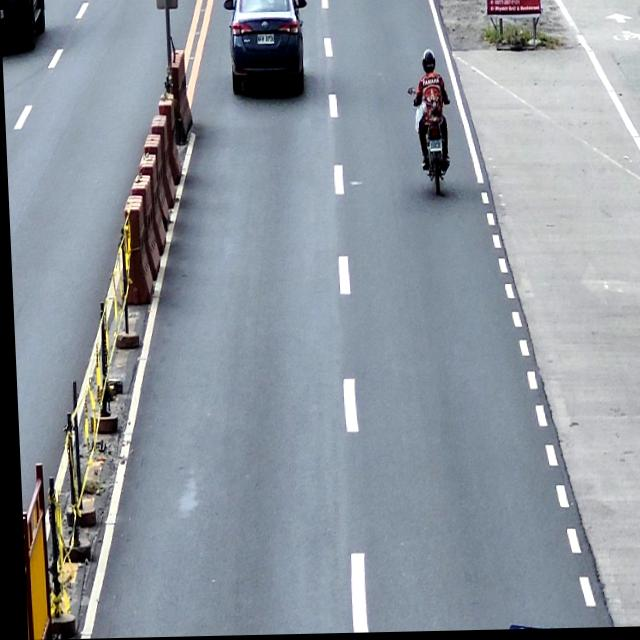Car: (223, 0, 313, 99)
License-Plate: (255, 34, 275, 46), (427, 141, 441, 155)
Motorcycle: (406, 87, 454, 200)
